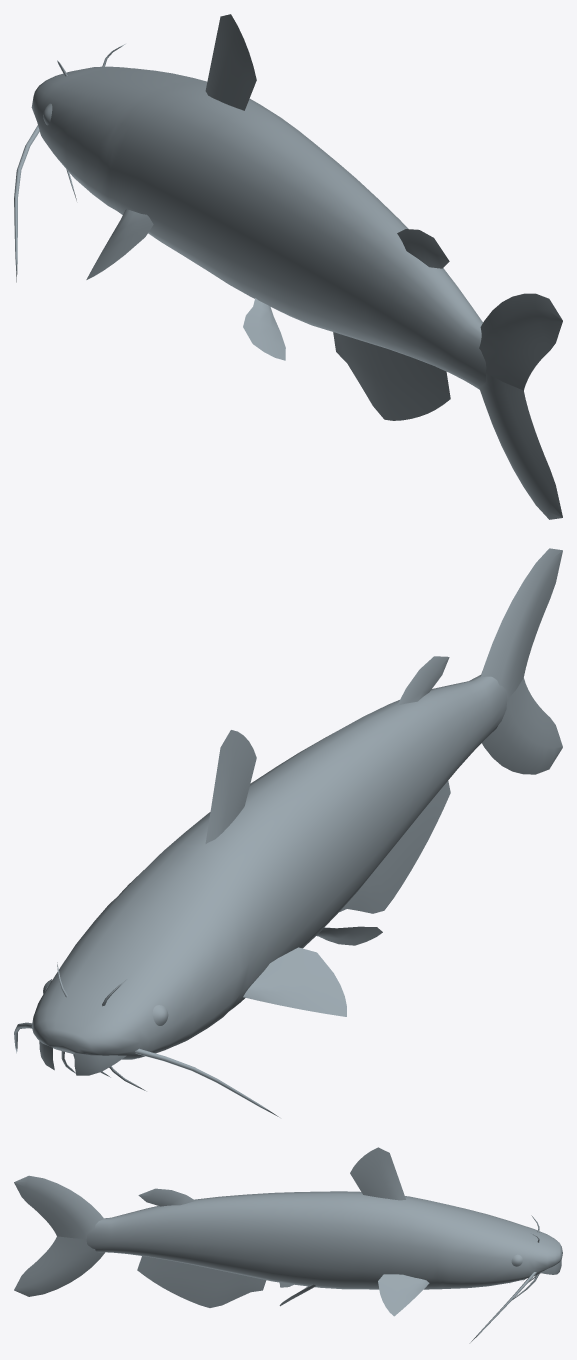
File: channel_catfish_game.glb
3 renders of one model, top to bottom at view 1: azimuth 30°, elevation 25°; view 2: azimuth 150°, elevation 25°; view 3: azimuth 270°, elevation 25°, orthographic. The views are drawn at different scales.
Parts seen in each view (by area): view 1: channel_catfish_game; view 2: channel_catfish_game; view 3: channel_catfish_game.
Part boxes in pixels (bbox=[...]): channel_catfish_game: bbox=[14, 14, 562, 519]; channel_catfish_game: bbox=[14, 548, 562, 1117]; channel_catfish_game: bbox=[14, 1147, 562, 1343].
Size of the model in its own units: 0.1834 by 0.1964 by 0.6.
